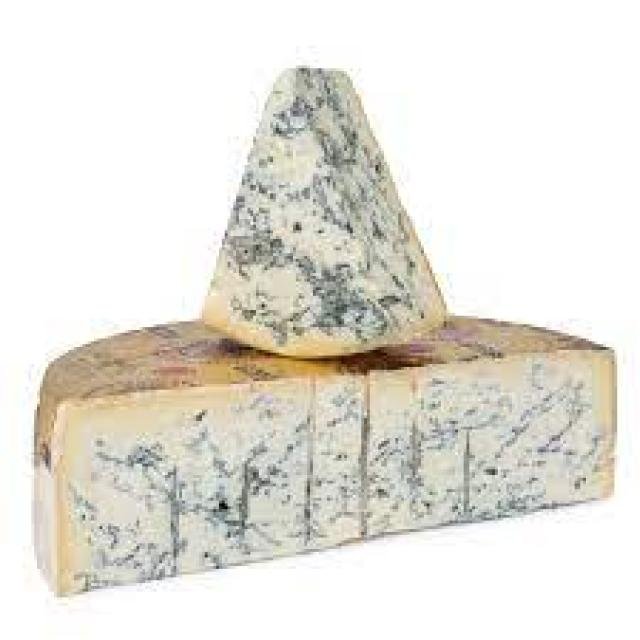Cheese: (36, 297, 629, 614), (205, 64, 455, 343)
